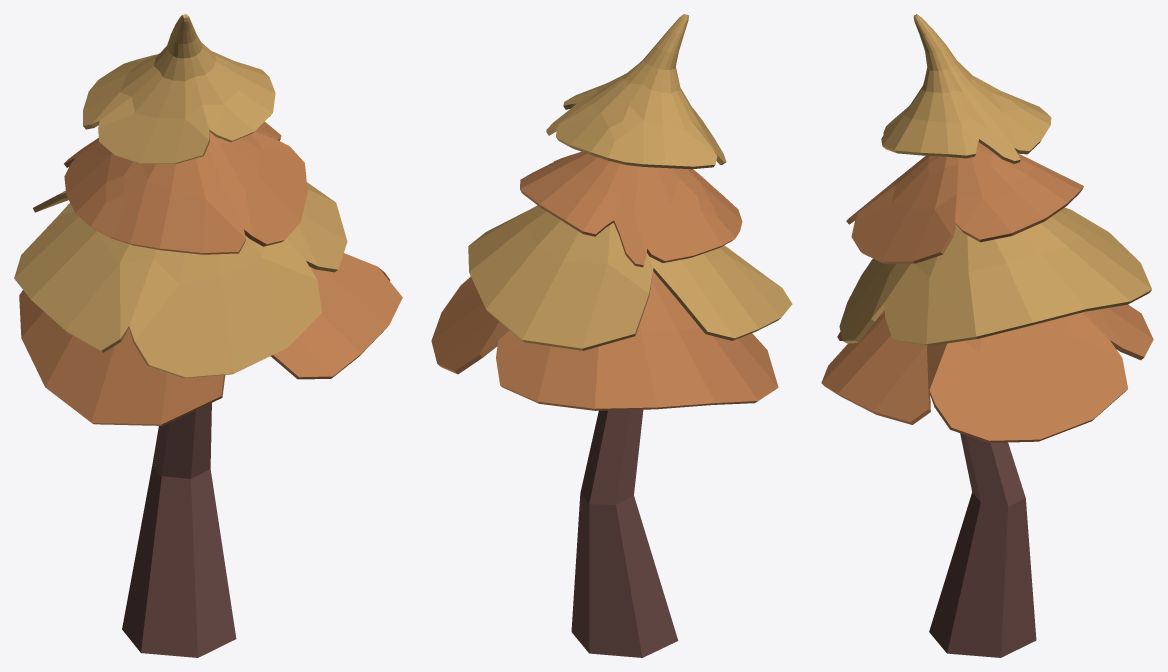
Rendered from autumnTree.glb.
3 views of the same model, side by side, from view 1: azimuth 30°, elevation 25°; view 2: azimuth 150°, elevation 25°; view 3: azimuth 270°, elevation 25° (orthographic). The views are drawn at different scales.
Visible parts, largest first — view 1: PineTree_Autumn_5; view 2: PineTree_Autumn_5; view 3: PineTree_Autumn_5.
Part boxes in pixels (x1,y1,x2,y2): PineTree_Autumn_5: (14, 14, 402, 657); PineTree_Autumn_5: (431, 14, 792, 657); PineTree_Autumn_5: (821, 14, 1153, 657).
Size of the model in its own units: 1.47 by 2.69 by 1.34.
